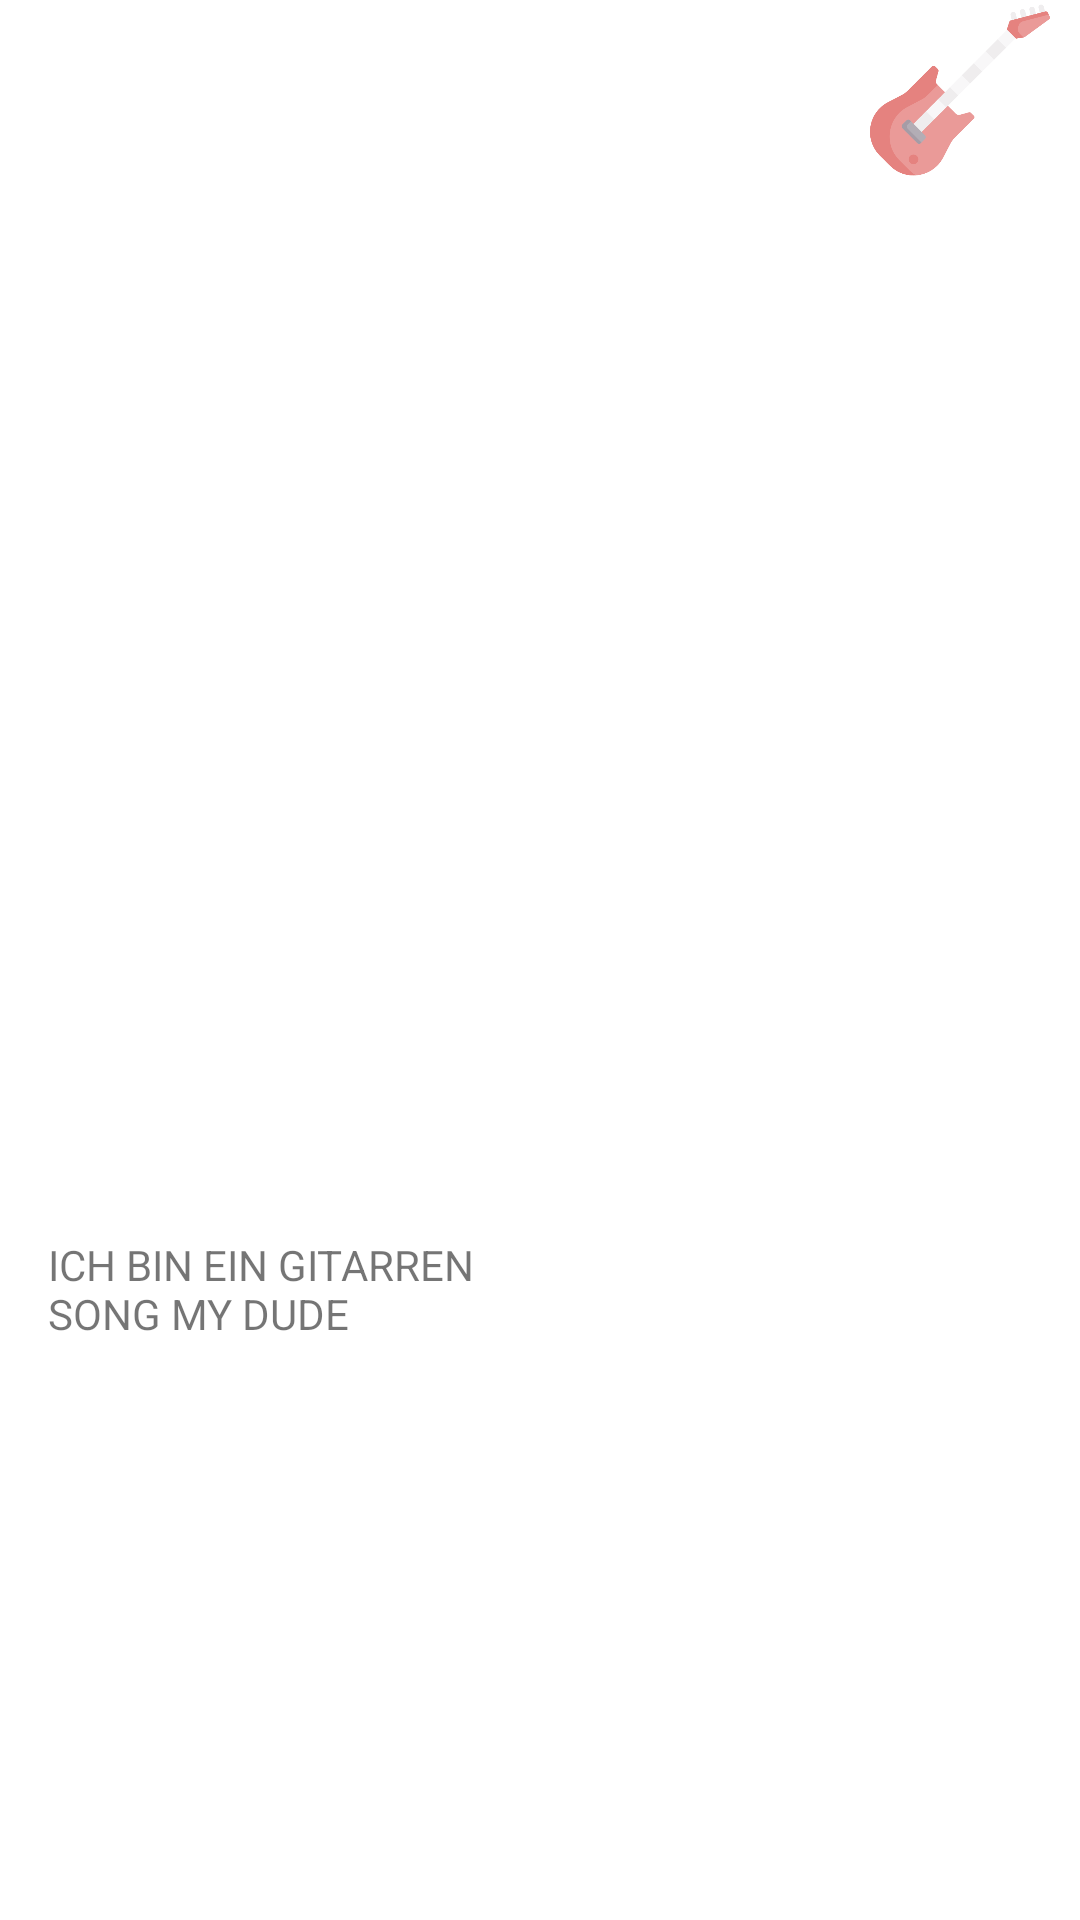

Named icons in this screenshot (1080px x 1920px) and their centers, point (x, y):
bass: point (960, 93)
